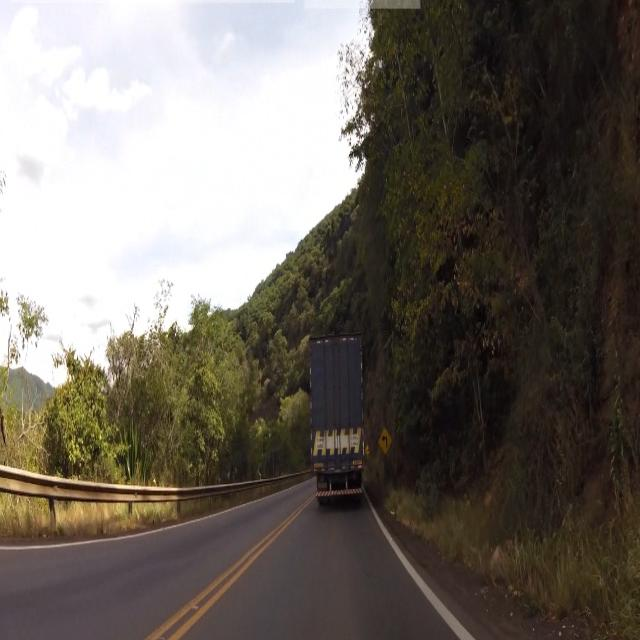A-1a: (377, 424, 395, 454)
